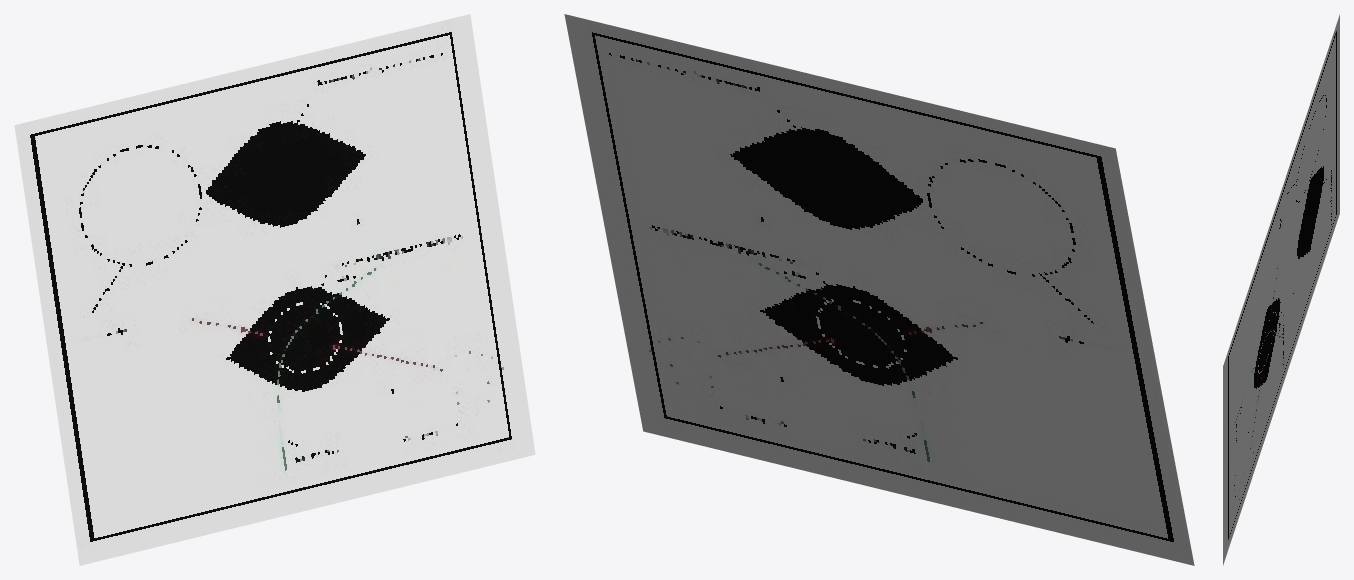
File: GSS. Global Surreal Shield.glb
3 views of the same model, side by side, from view 1: azimuth 30°, elevation 25°; view 2: azimuth 150°, elevation 25°; view 3: azimuth 270°, elevation 25° (orthographic). The views are drawn at different scales.
Parts seen in each view (by area): view 1: mesh_id29; view 2: mesh_id29; view 3: mesh_id29.
Boxes of the visible parts, x1,y1,x2,y2 form: mesh_id29: [14, 14, 535, 565]; mesh_id29: [564, 14, 1194, 565]; mesh_id29: [1223, 14, 1339, 565].
Size of the model in its own units: 0.2 by 0.1647 by 0.0495.
1 material, 1 textured.
